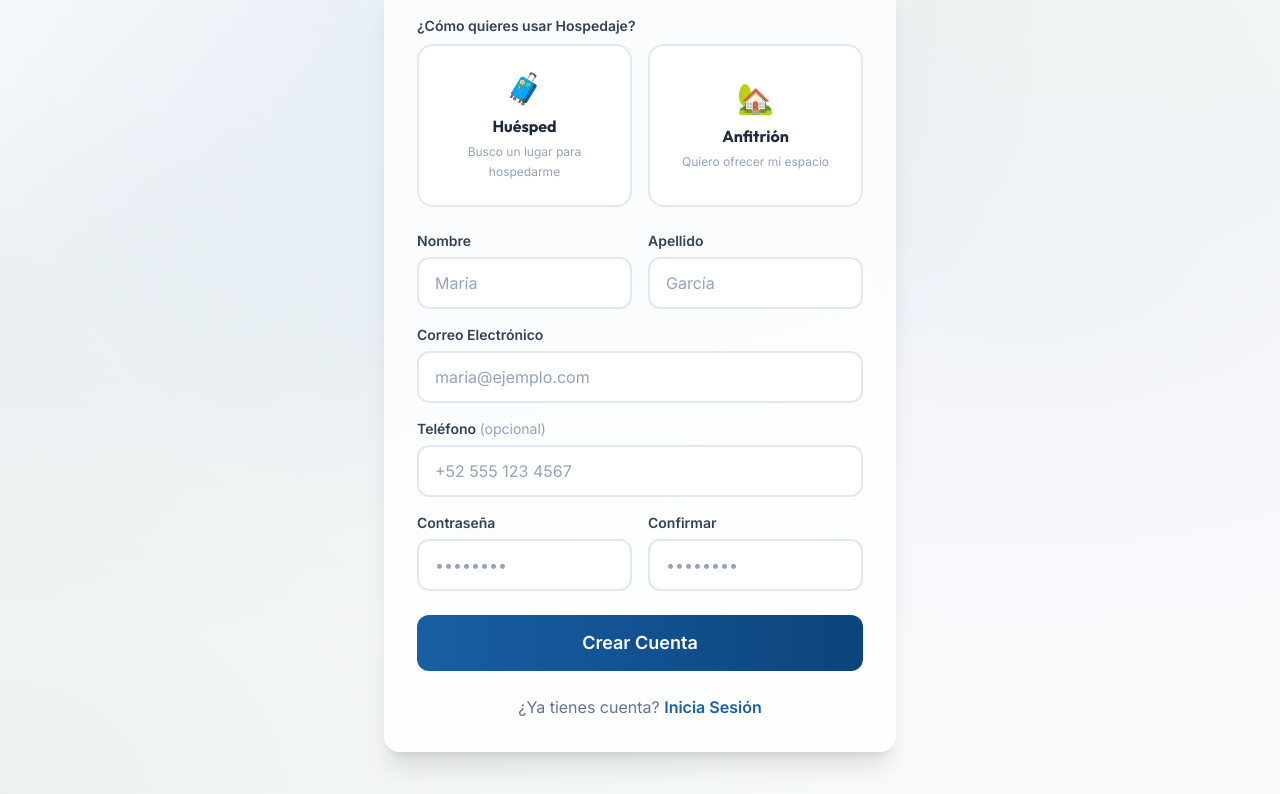
Test case: Página de Registro › valida que las contraseñas coincidan
The image size is (1280, 794).
(page scrolled)
Type "password123" into the password field labelled "Contraseña".
click(524, 565); type("password123")  # box [417,539,632,591]
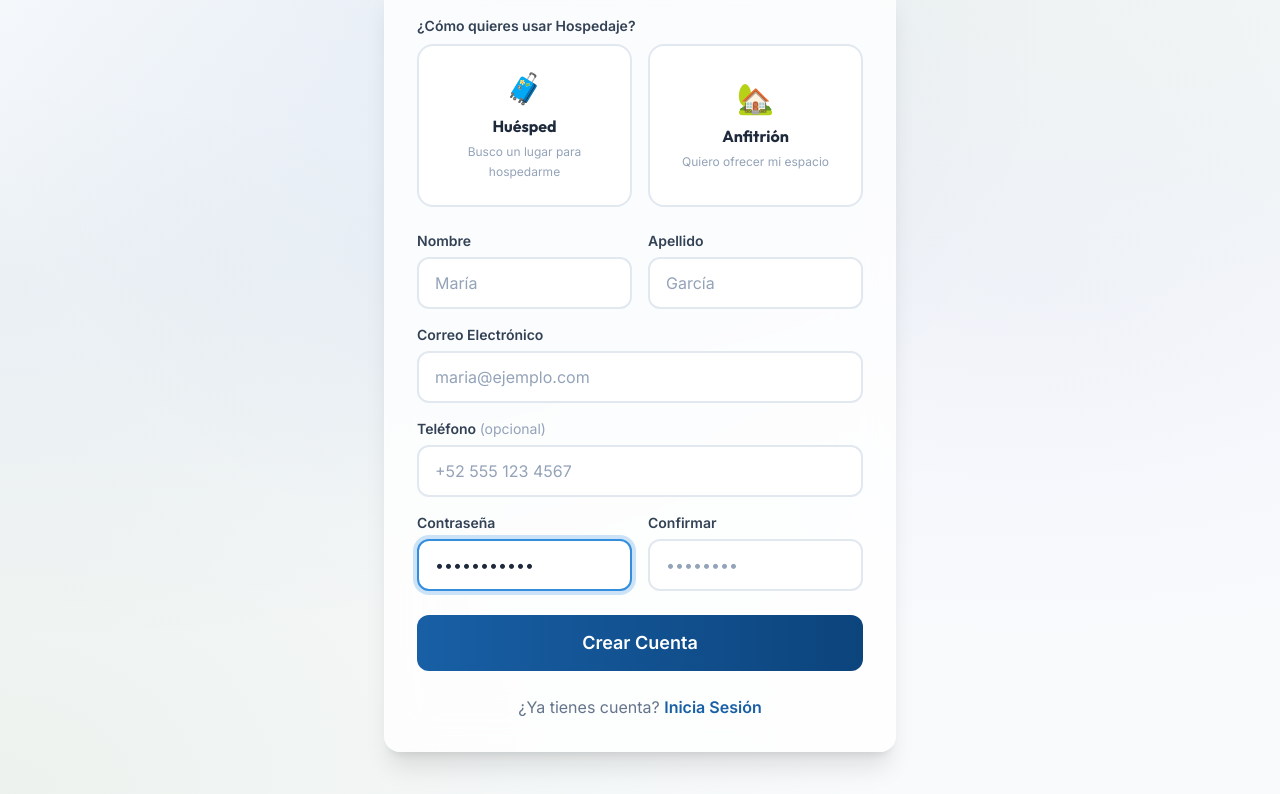
Type "different" into the password field labelled "Confirmar".
click(756, 565); type("different")  # box [648,539,863,591]
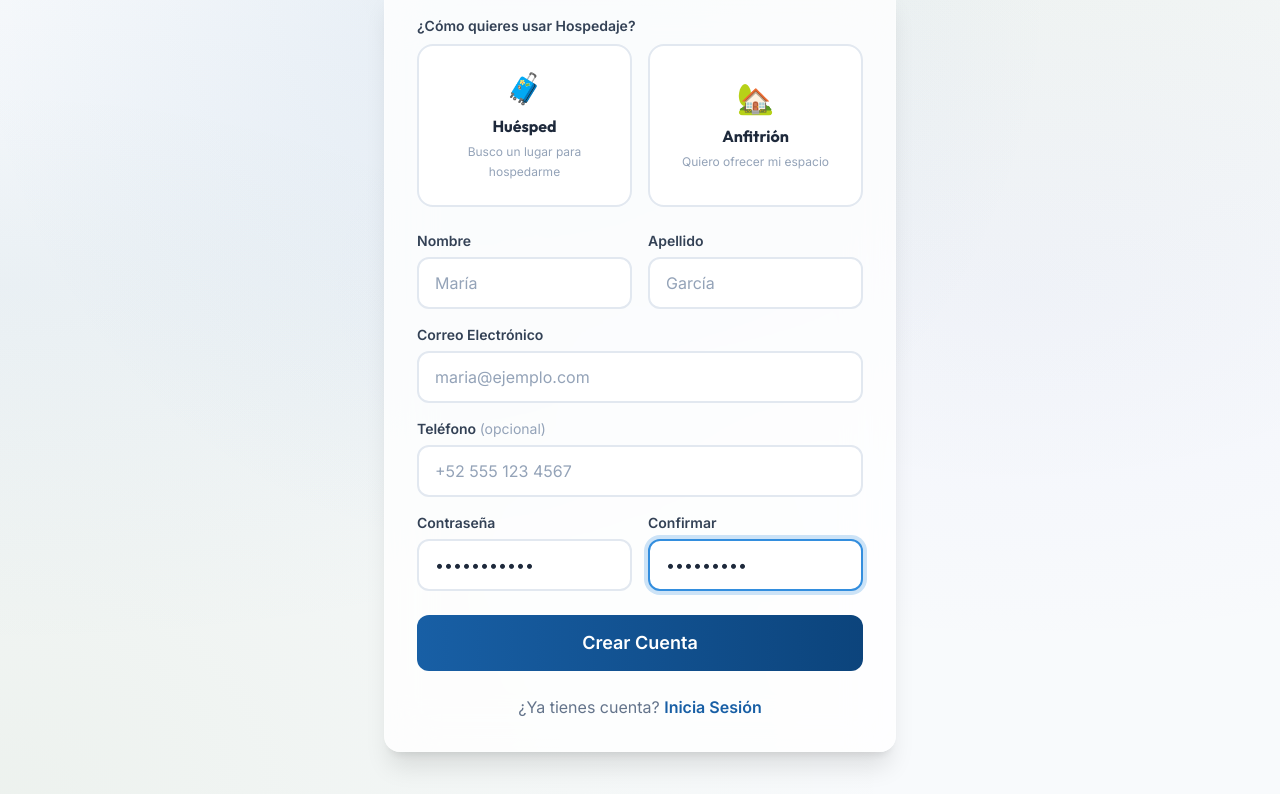
Click the button "Crear Cuenta".
click(640, 643)  # box [417,615,863,671]
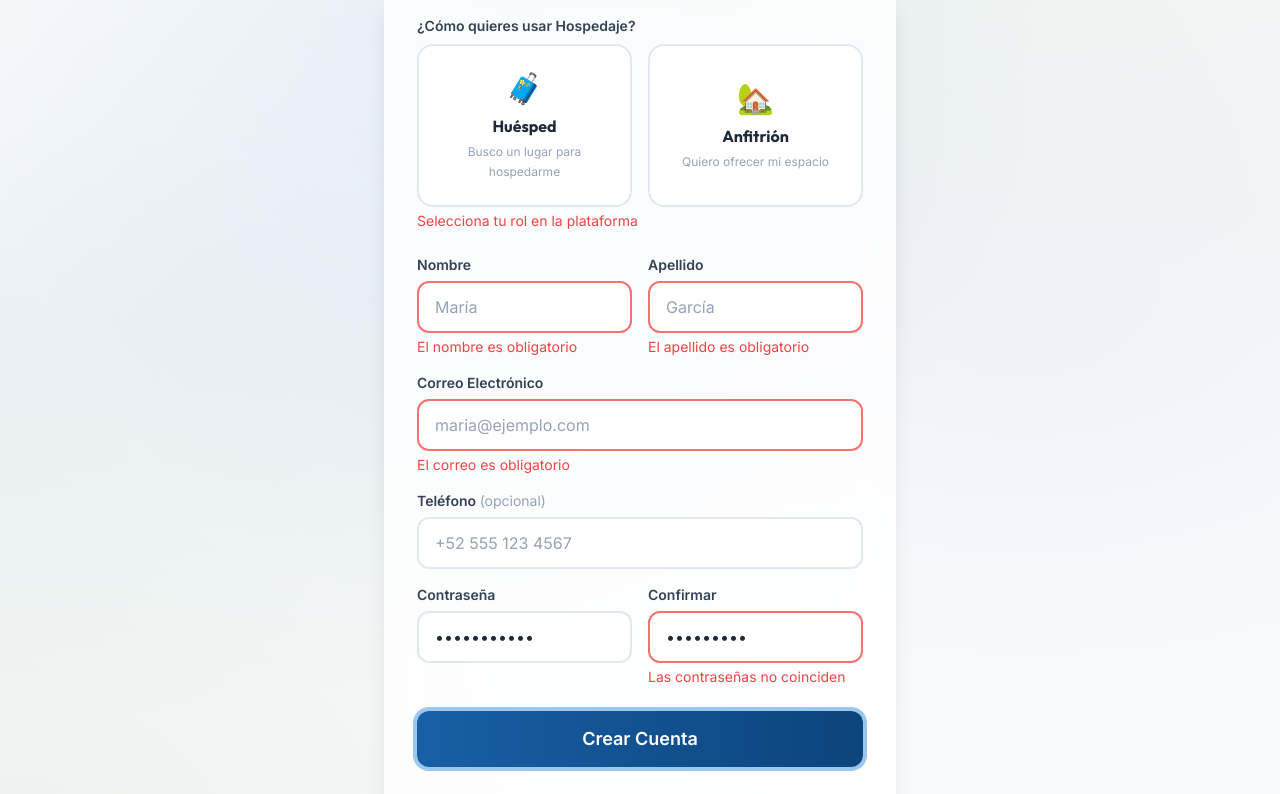
Expected: the text "Las contraseñas no coinciden" is shown, [648,667,863,687]
